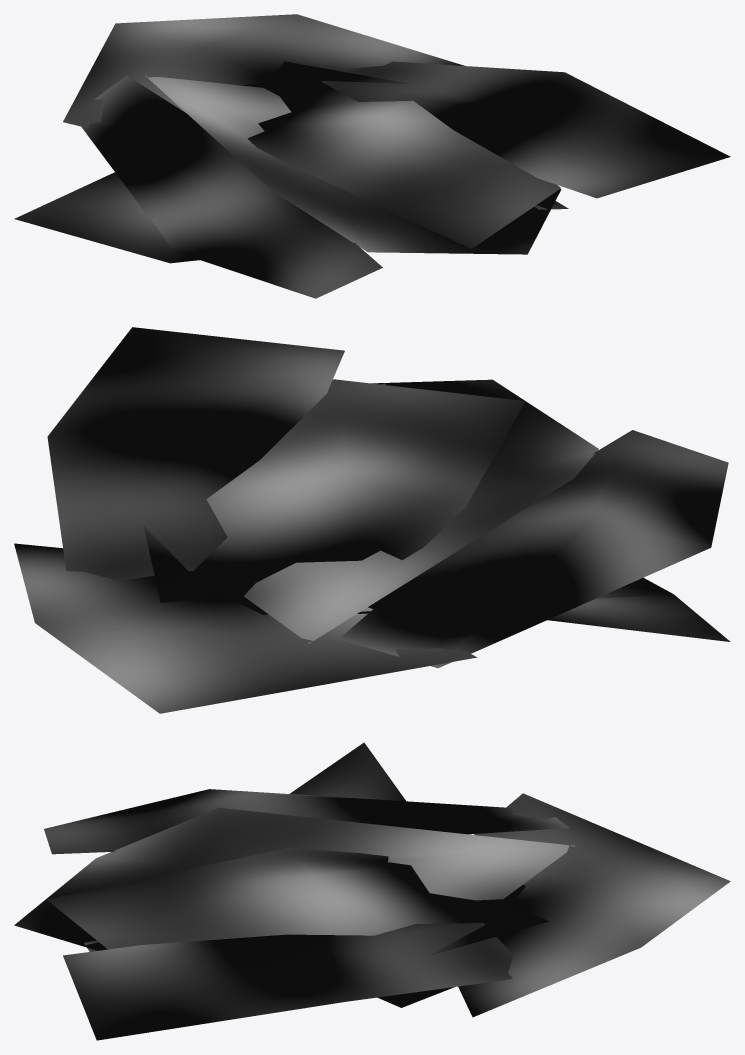
The model's file is SM_Ivy_Plane_047.fbx.
3 views of the same model, one above another, from view 1: azimuth 30°, elevation 25°; view 2: azimuth 150°, elevation 25°; view 3: azimuth 270°, elevation 25° (orthographic). The views are drawn at different scales.
Parts seen in each view (by area): view 1: SM_Ivy_Plane_047; view 2: SM_Ivy_Plane_047; view 3: SM_Ivy_Plane_047.
Part boxes in pixels (x1,y1,x2,y2): SM_Ivy_Plane_047: (14, 14, 730, 298); SM_Ivy_Plane_047: (14, 327, 730, 713); SM_Ivy_Plane_047: (14, 742, 730, 1040).
Size of the model in its own units: 151 by 149 by 14.58.
1 material, 1 textured.
